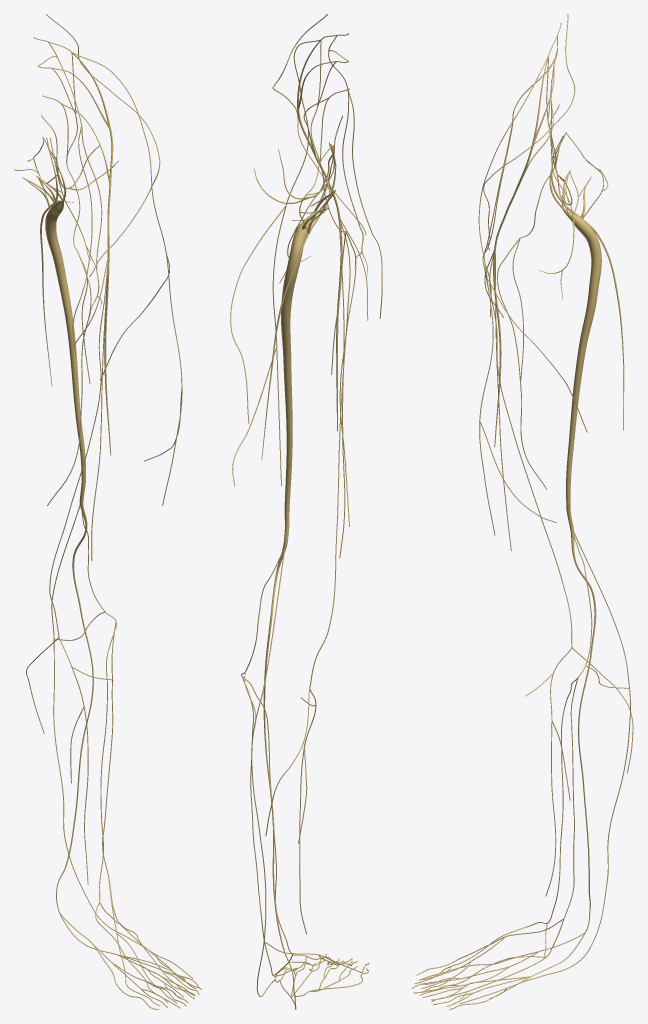
Rendered from detail-nervous-left-lower-limb.glb.
The picture shows the model from 3 angles, left to right: view 1: azimuth 30°, elevation 25°; view 2: azimuth 150°, elevation 25°; view 3: azimuth 270°, elevation 25°; orthographic projection. The views are drawn at different scales.
Parts seen in each view (by area): view 1: za-252b39f05350ea70, za-7c17d5e5c5b45b69, za-22e938aea045b34f, za-1fb5cfe4ef87b7fa, za-8c99086546f923b6, za-812371fb08e6c66d, za-3aeeeb403b6cabb4, za-c35f4f9e1e30efc7, za-1928292f99cd6117, za-1bbdc568db893bcb, za-402a2833f5809524; view 2: za-252b39f05350ea70, za-22e938aea045b34f, za-1fb5cfe4ef87b7fa, za-7c17d5e5c5b45b69, za-8c99086546f923b6, za-1928292f99cd6117, za-812371fb08e6c66d, za-c35f4f9e1e30efc7, za-5f72512f26ad11b6, za-402a2833f5809524, za-3aeeeb403b6cabb4, za-d0ae46c7ed7676b5 (+2 smaller); view 3: za-252b39f05350ea70, za-22e938aea045b34f, za-1fb5cfe4ef87b7fa, za-7c17d5e5c5b45b69, za-8c99086546f923b6, za-812371fb08e6c66d, za-1928292f99cd6117.
Boxes of the visible parts, x1,y1,x2,y2 form: za-252b39f05350ea70: (23,137,85,501); za-7c17d5e5c5b45b69: (33,37,113,455); za-22e938aea045b34f: (26,260,108,884); za-1fb5cfe4ef87b7fa: (72,52,182,505); za-8c99086546f923b6: (56,501,93,911); za-812371fb08e6c66d: (51,595,193,978); za-3aeeeb403b6cabb4: (95,621,126,958); za-c35f4f9e1e30efc7: (42,53,80,251); za-1928292f99cd6117: (40,167,58,386); za-1bbdc568db893bcb: (46,14,160,276); za-402a2833f5809524: (91,282,106,560); za-252b39f05350ea70: (281,144,333,540); za-22e938aea045b34f: (265,221,350,934); za-1fb5cfe4ef87b7fa: (230,39,320,486); za-7c17d5e5c5b45b69: (297,33,348,431); za-8c99086546f923b6: (263,540,294,995); za-1928292f99cd6117: (261,167,336,459); za-812371fb08e6c66d: (251,680,287,996); za-c35f4f9e1e30efc7: (310,40,349,231); za-5f72512f26ad11b6: (339,232,356,526); za-402a2833f5809524: (339,222,345,558); za-3aeeeb403b6cabb4: (242,676,334,962); za-d0ae46c7ed7676b5: (347,88,382,318); za-252b39f05350ea70: (549,134,601,527); za-22e938aea045b34f: (489,254,633,896); za-1fb5cfe4ef87b7fa: (478,56,587,535); za-7c17d5e5c5b45b69: (493,22,561,447); za-8c99086546f923b6: (570,527,596,931); za-812371fb08e6c66d: (459,636,630,1003); za-1928292f99cd6117: (551,161,624,430).
Bounding box in the file's own units: 0.1475 × 1.11 × 0.2357.
